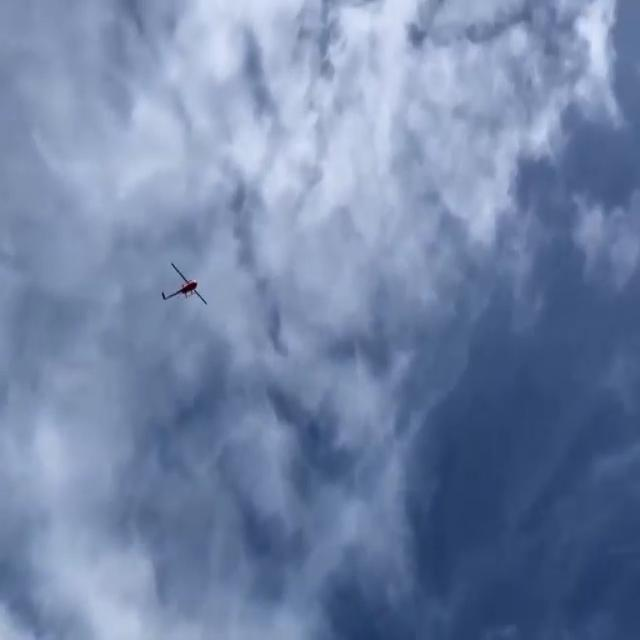Helicopter: (139, 244, 218, 328)
